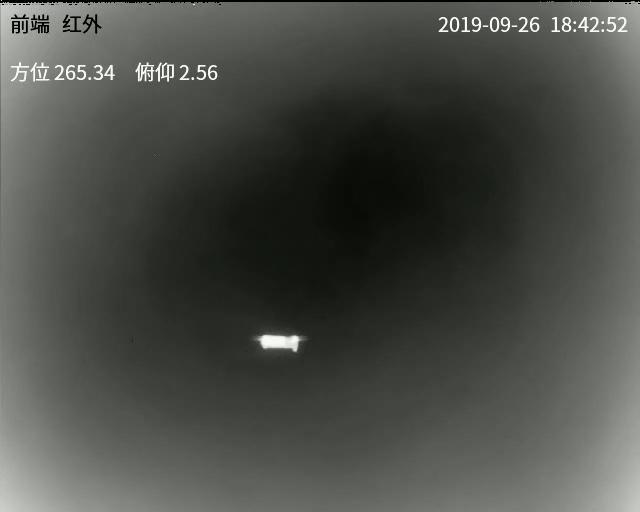uav: (246, 328, 307, 354)
